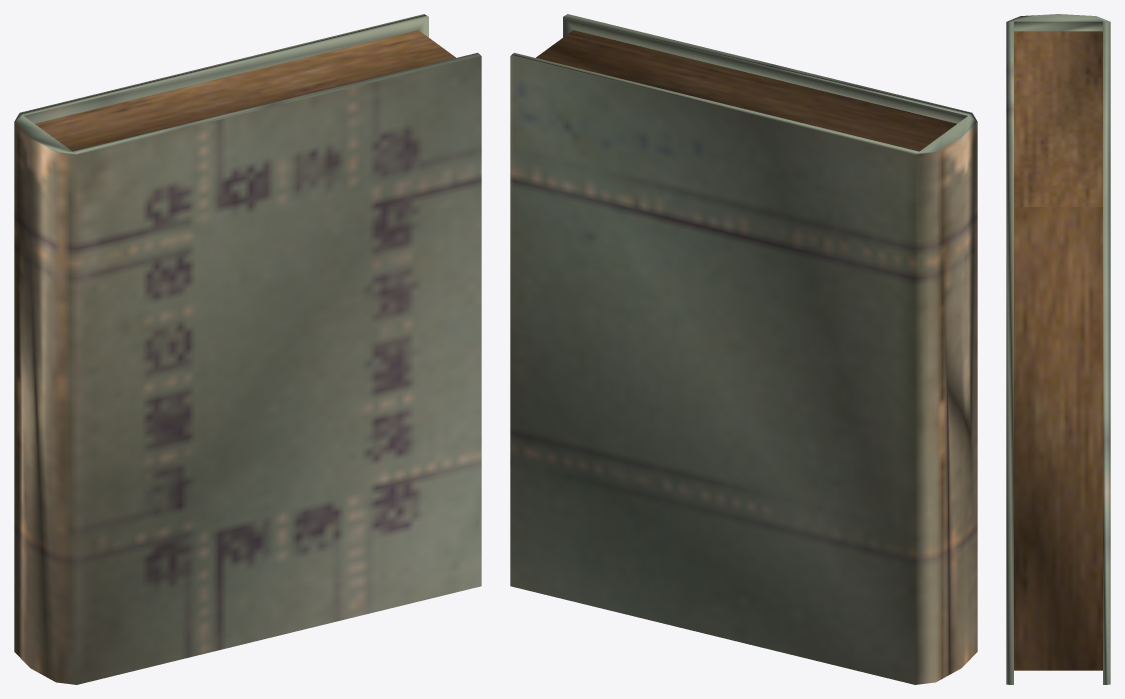
The model's file is MS_Book_3.fbx.
The picture shows the model from 3 angles, left to right: view 1: azimuth 30°, elevation 25°; view 2: azimuth 150°, elevation 25°; view 3: azimuth 270°, elevation 25°; orthographic projection. The views are drawn at different scales.
Visible parts, largest first — view 1: MSH_Book_01; view 2: MSH_Book_01; view 3: MSH_Book_01.
Part boxes in pixels (box(x1,y1,x2,y2)): MSH_Book_01: box(14, 14, 481, 684); MSH_Book_01: box(510, 14, 977, 684); MSH_Book_01: box(1006, 14, 1110, 684).
Bounding box in the file's own units: 20.87 × 25 × 4.89.
